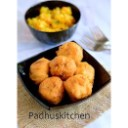bonda: (66, 73, 93, 98), (39, 75, 64, 100), (49, 56, 75, 77), (58, 41, 83, 62), (29, 57, 50, 81)
